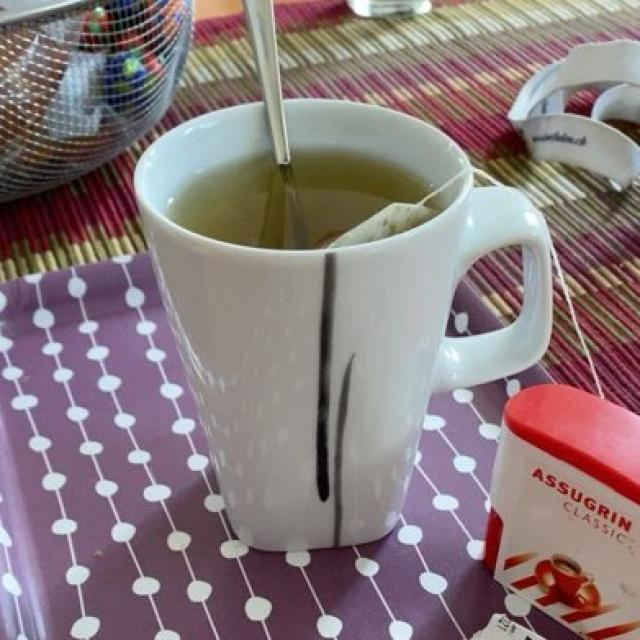tea: (184, 157, 430, 247)
